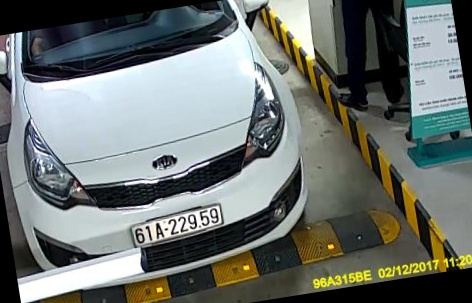plate: (125, 204, 231, 244)
